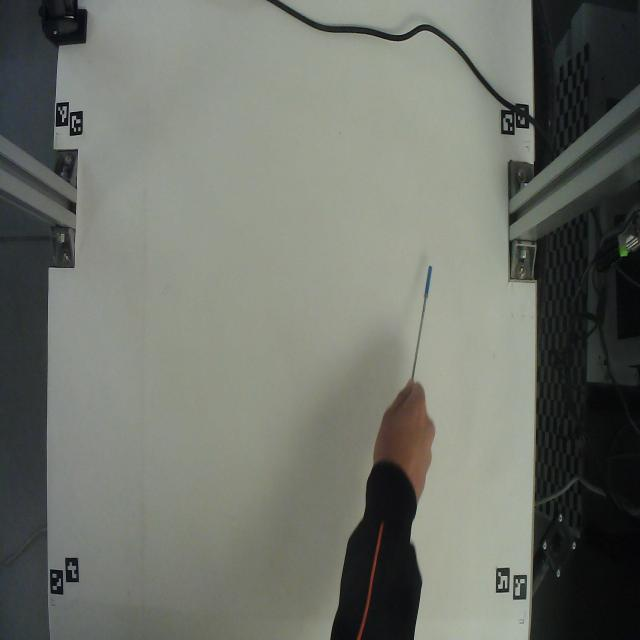NoPres: (401, 248, 442, 386)
